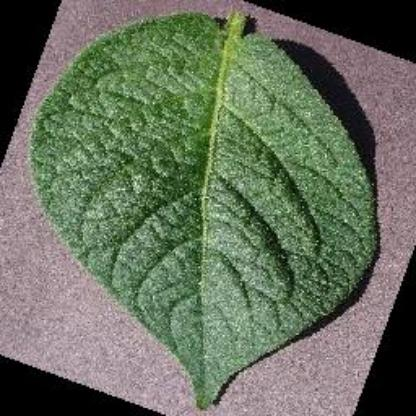Healthy-plant: (27, 6, 379, 408)
